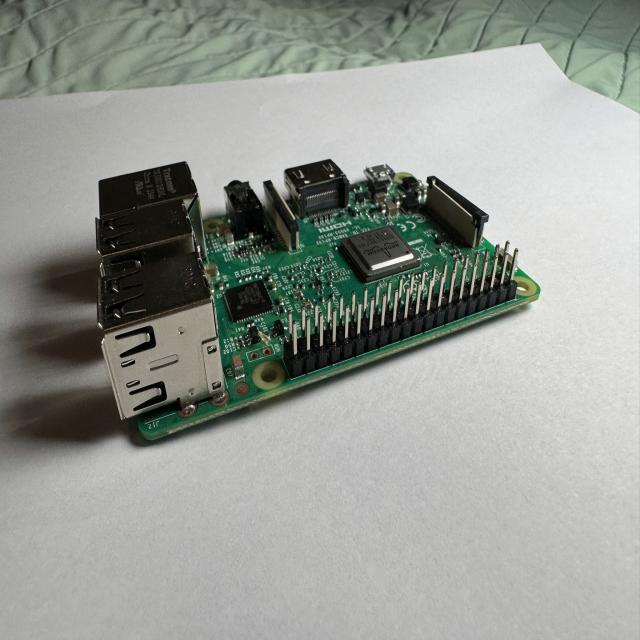CPU: (334, 220, 427, 286)
RAM-3: (225, 280, 277, 321)
Raspberry: (94, 161, 541, 450)
